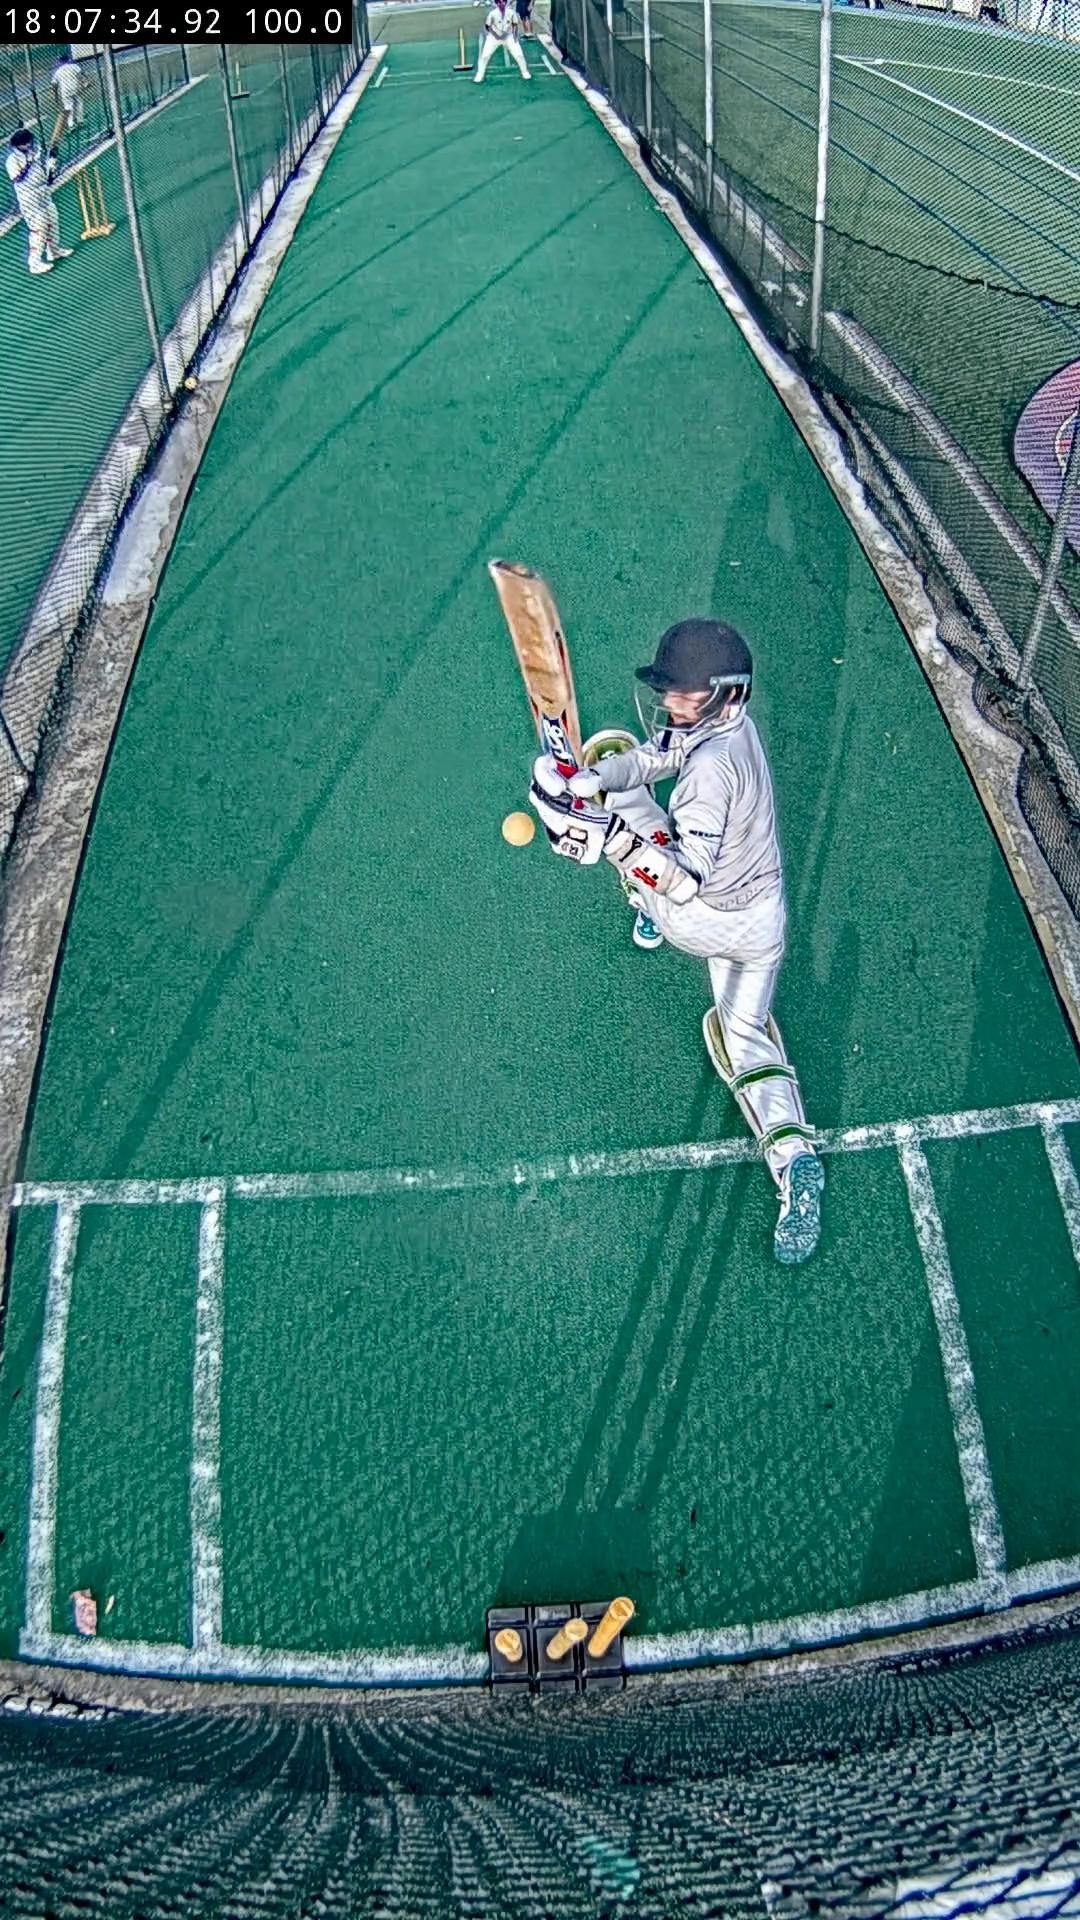ball: (502, 814, 537, 848)
bat: (488, 559, 582, 765)
gloves: (529, 754, 641, 864)
helmet: (634, 618, 754, 690)
stumps: (488, 1597, 634, 1692)
